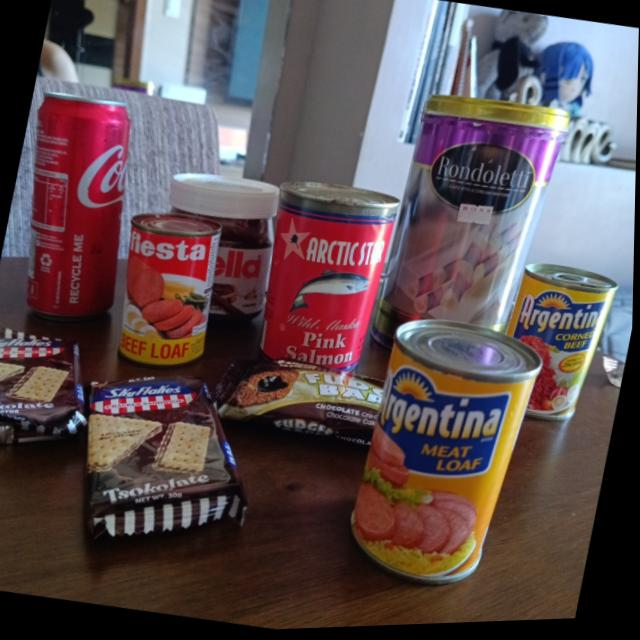coke: (2, 86, 154, 328)
